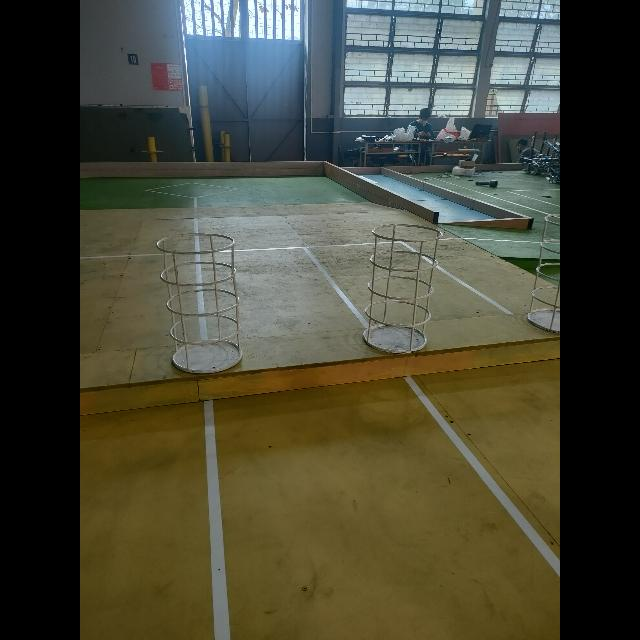S: (155, 230, 244, 375), (361, 222, 443, 355), (525, 214, 560, 336)
